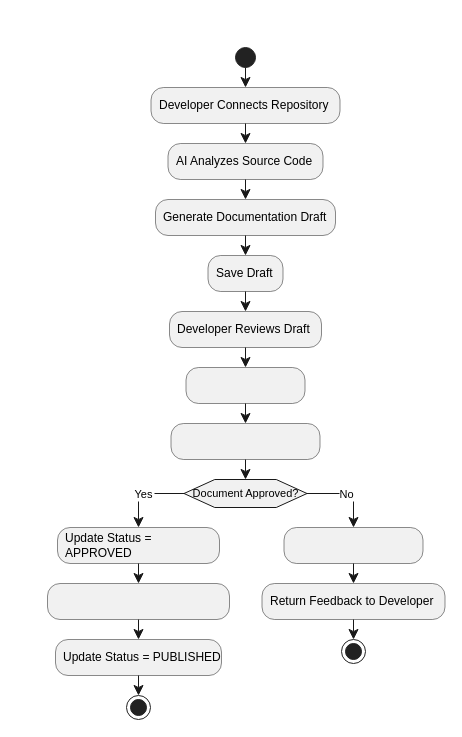
Image size: 462x737. Some labels were removed from this diagram. The shapes that lost their labels are listed below. From the top down, each one's box as (x1, y1, x2, y2) in pixels, then its label:
(185, 367, 305, 403): Submit for Review
(170, 423, 320, 459): Staff Reviews Evidence
(283, 527, 423, 563): Reject with Feedback
(47, 583, 229, 619): Manager Publishes Document
